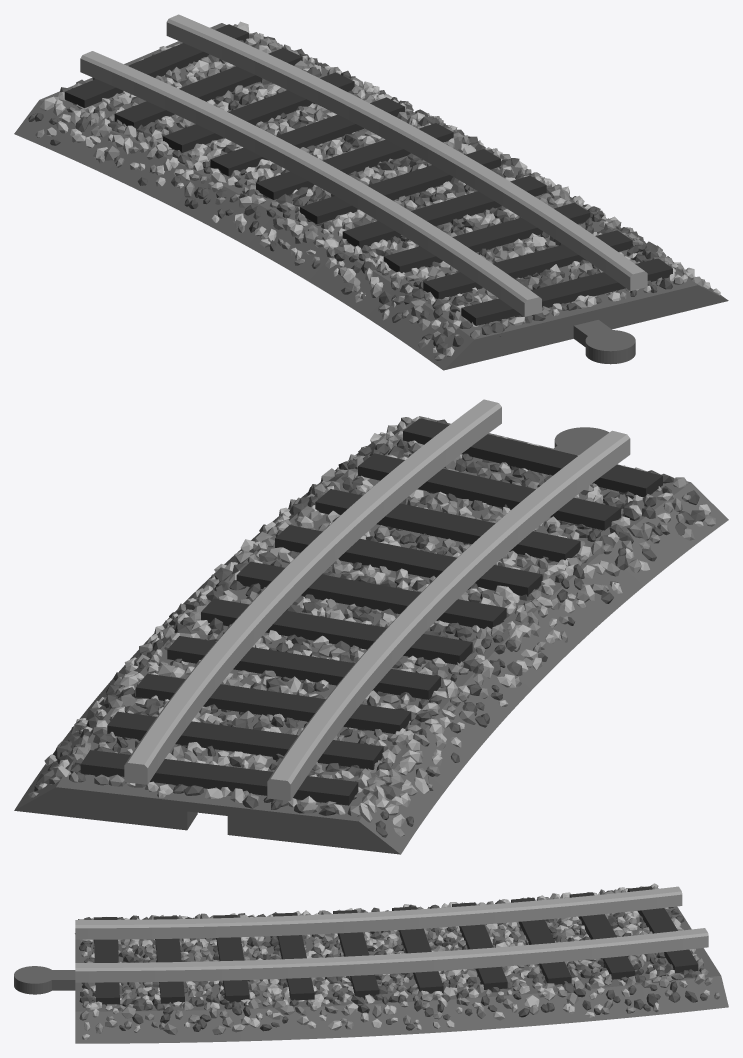
File: Rail_Right_75_90.obj
The picture shows the model from 3 angles, top to bottom: view 1: azimuth 30°, elevation 25°; view 2: azimuth 150°, elevation 25°; view 3: azimuth 270°, elevation 25°; orthographic projection. The views are drawn at different scales.
Visible parts, largest first — view 1: Rail_Right_75_90; view 2: Rail_Right_75_90; view 3: Rail_Right_75_90.
Boxes of the visible parts, <box> form: Rail_Right_75_90: <box>14,14,728,370</box>; Rail_Right_75_90: <box>14,399,728,854</box>; Rail_Right_75_90: <box>14,883,728,1043</box>.
Bounding box in the file's own units: 0.5885 × 0.0799 × 1.2.
1 material, 1 textured.
